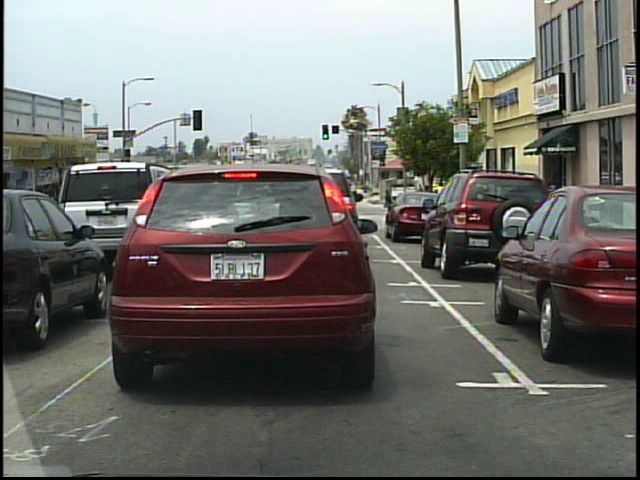person: (415, 182, 426, 212), (384, 187, 393, 218)
